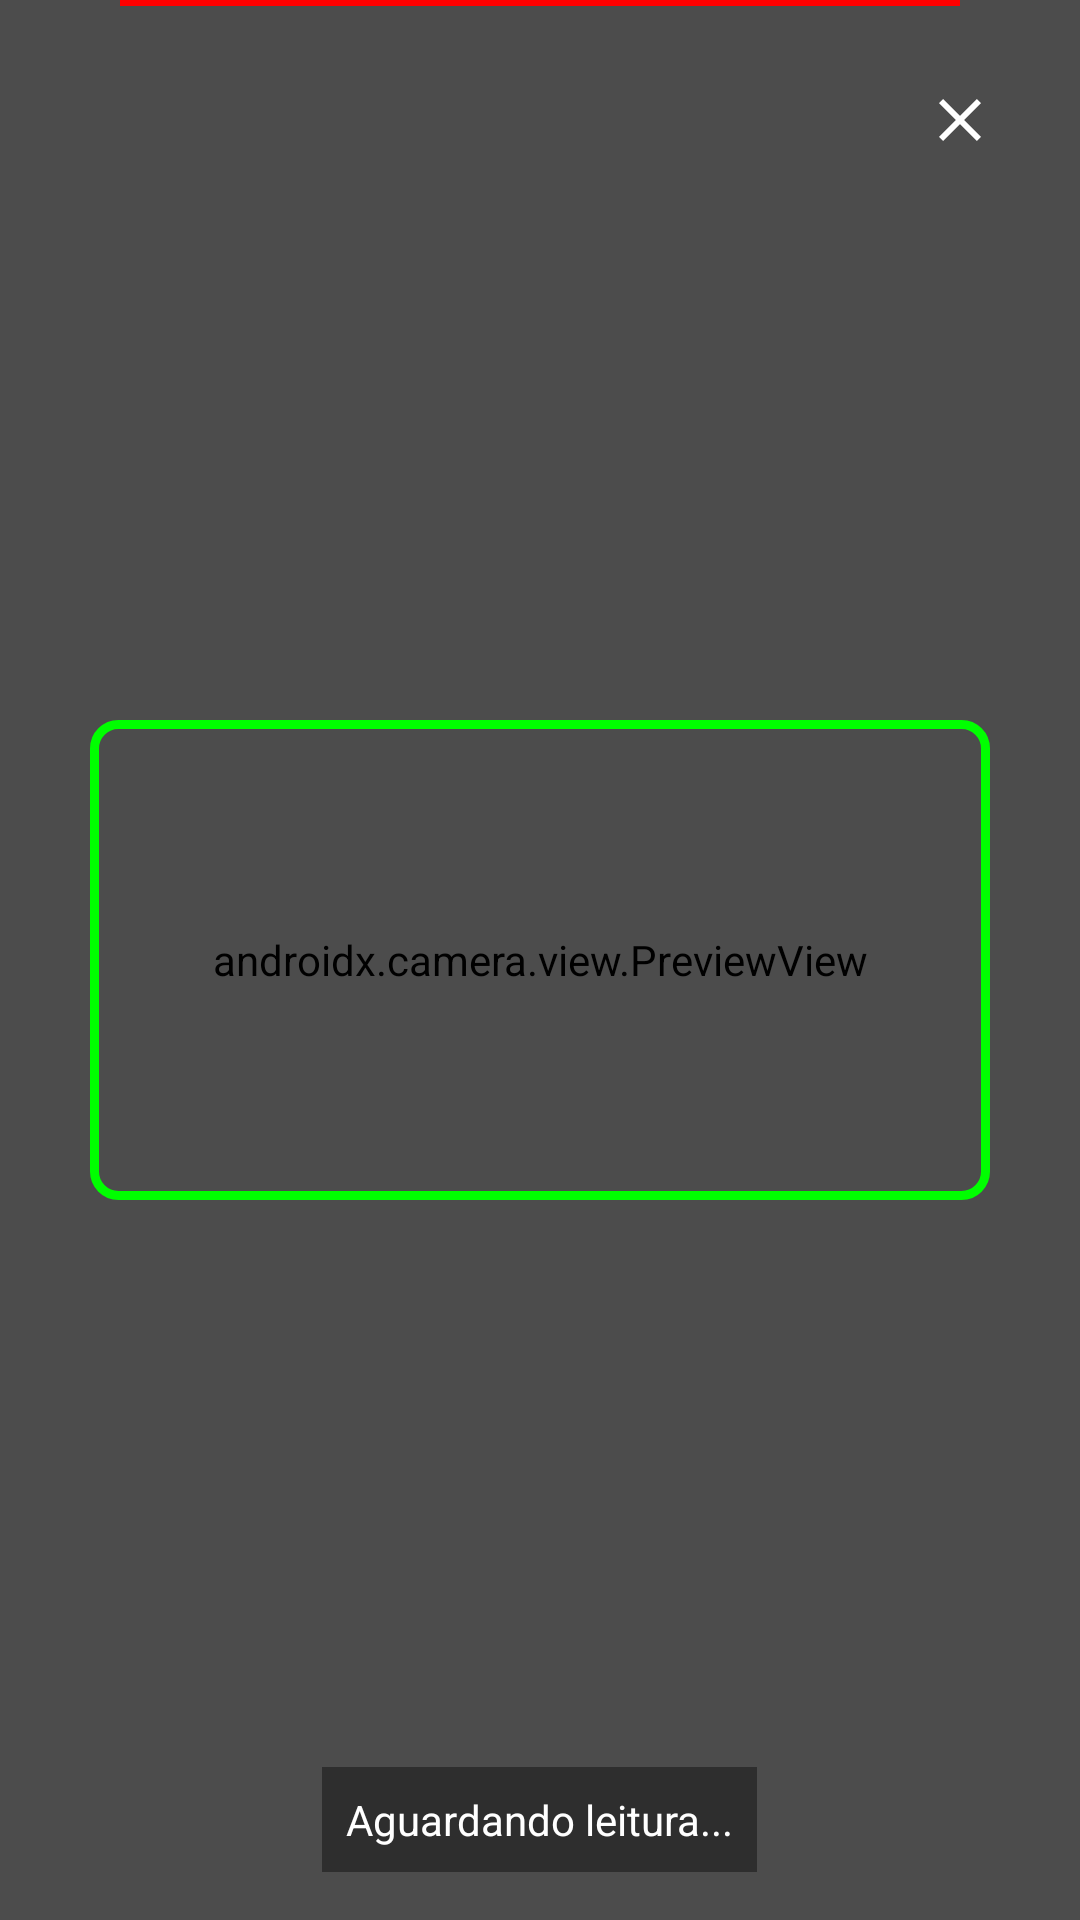

Icon click points for this 1080×1920 phone screenshot, format point (x, y):
Fechar: point (960, 120)
